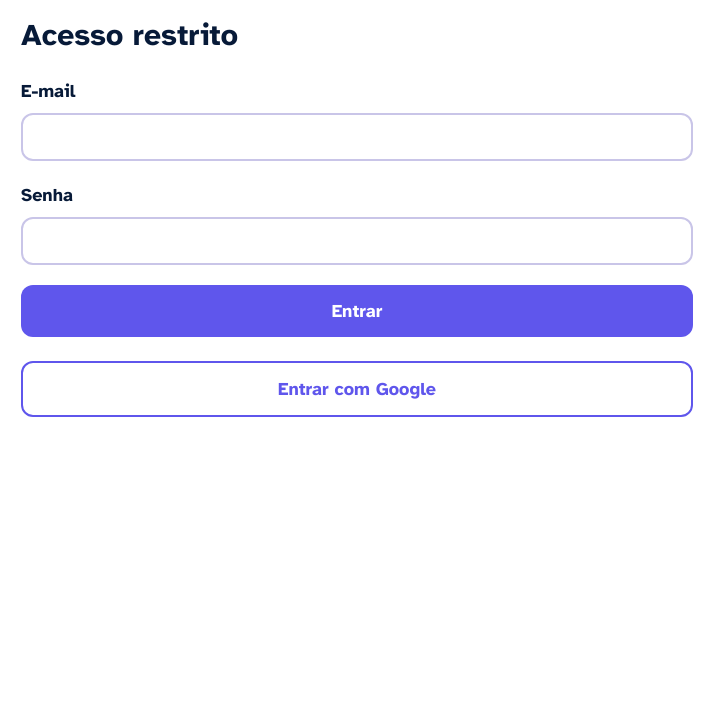
Test case: /demo: escolha da conta › lista as 6 contas agrupadas por perfil, sem violação axe
Type "admin@exemplo.test" into the field labelled "E-mail" at {"x": 357, "y": 137}, box [21,113,693,161]
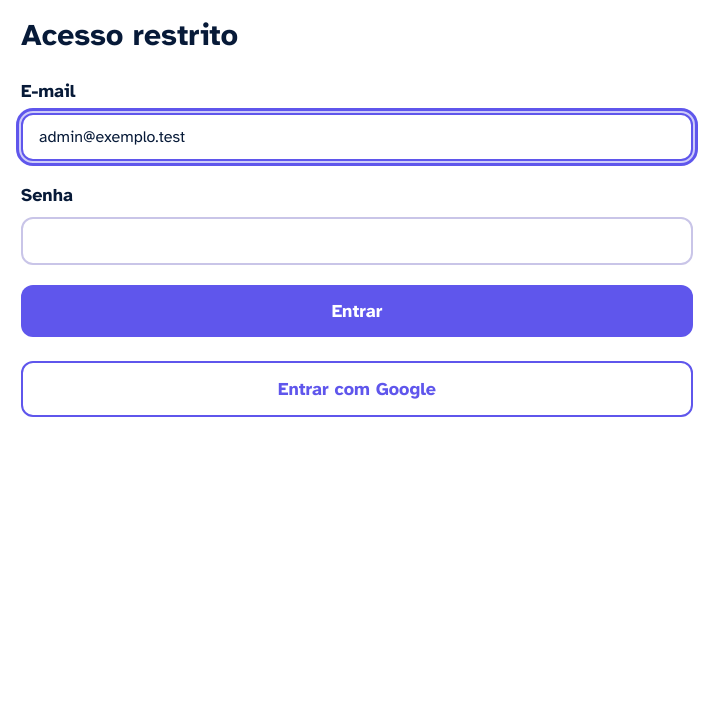
Type "senha-ficticia" into the password field labelled "Senha" at {"x": 357, "y": 241}, box [21,217,693,265]
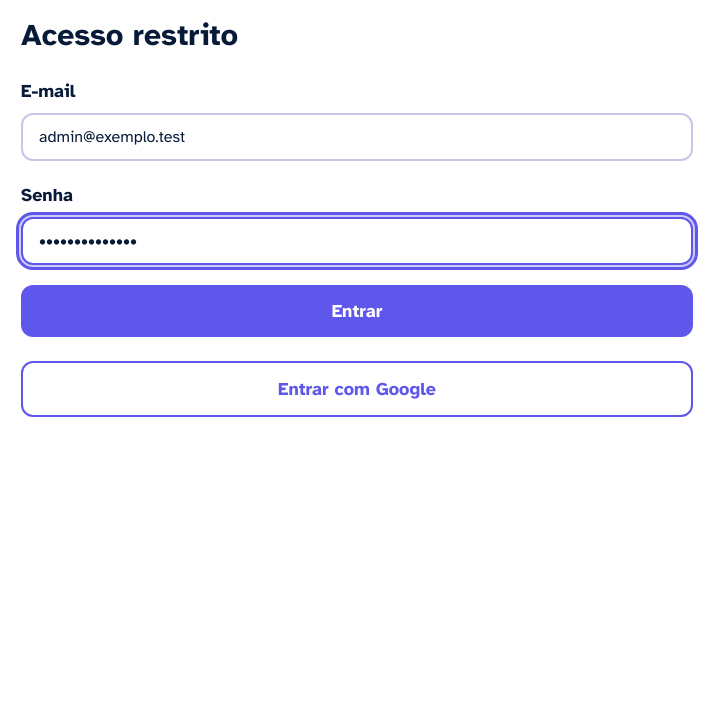
Click the button "Entrar" at {"x": 357, "y": 311}, box [21,285,693,337]
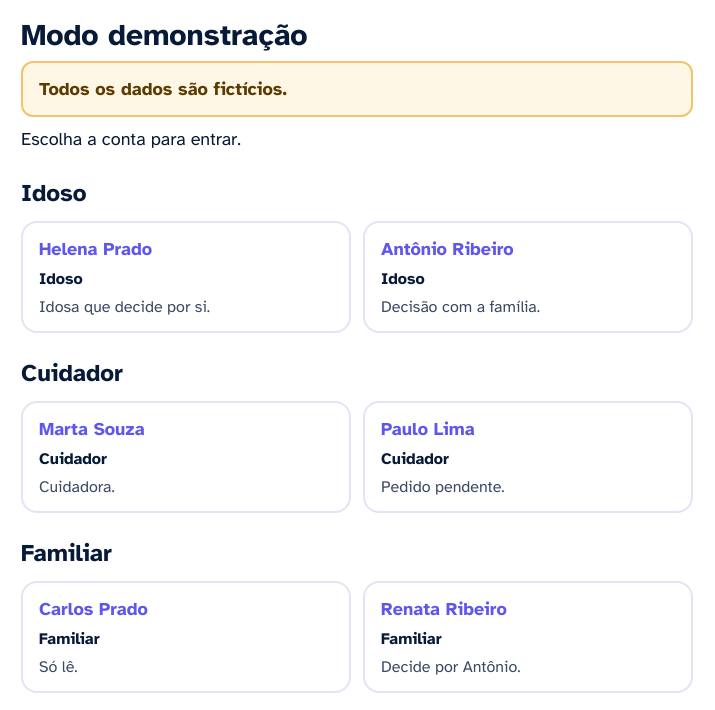
Check: the heading "Modo demonstração" is shown, box [21,16,308,54]
Check: the text "Todos os dados são fictícios." is shown, box [21,61,693,117]
